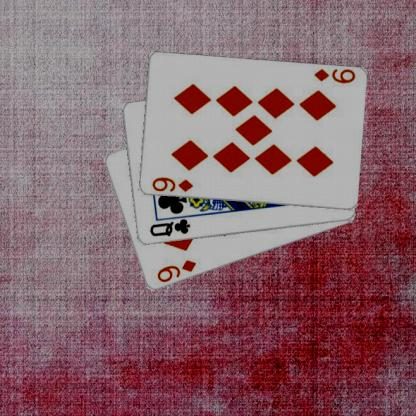9D: (154, 257, 197, 284), (311, 66, 357, 85), (149, 174, 194, 193)
QC: (147, 216, 191, 238)
